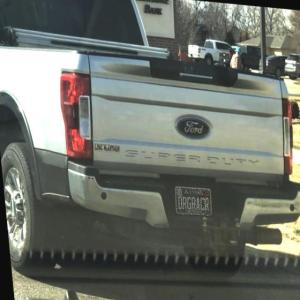Plate: (176, 187, 211, 216)
